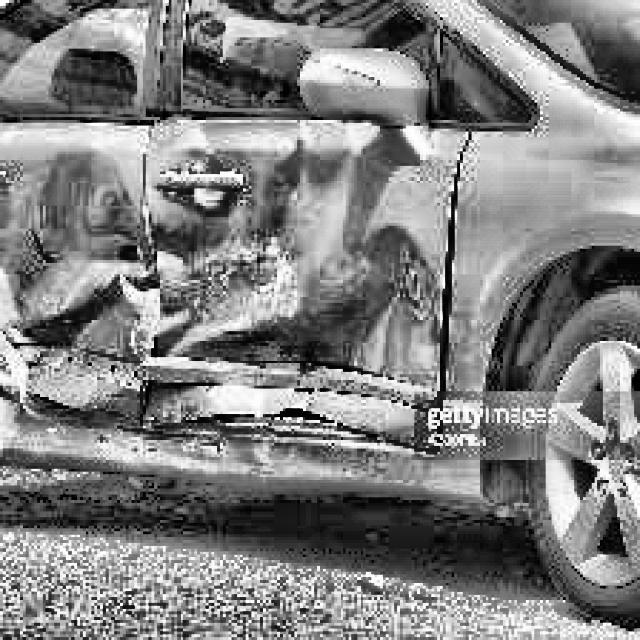door_dent: (13, 138, 433, 451)
door_scratch: (140, 347, 430, 442)
